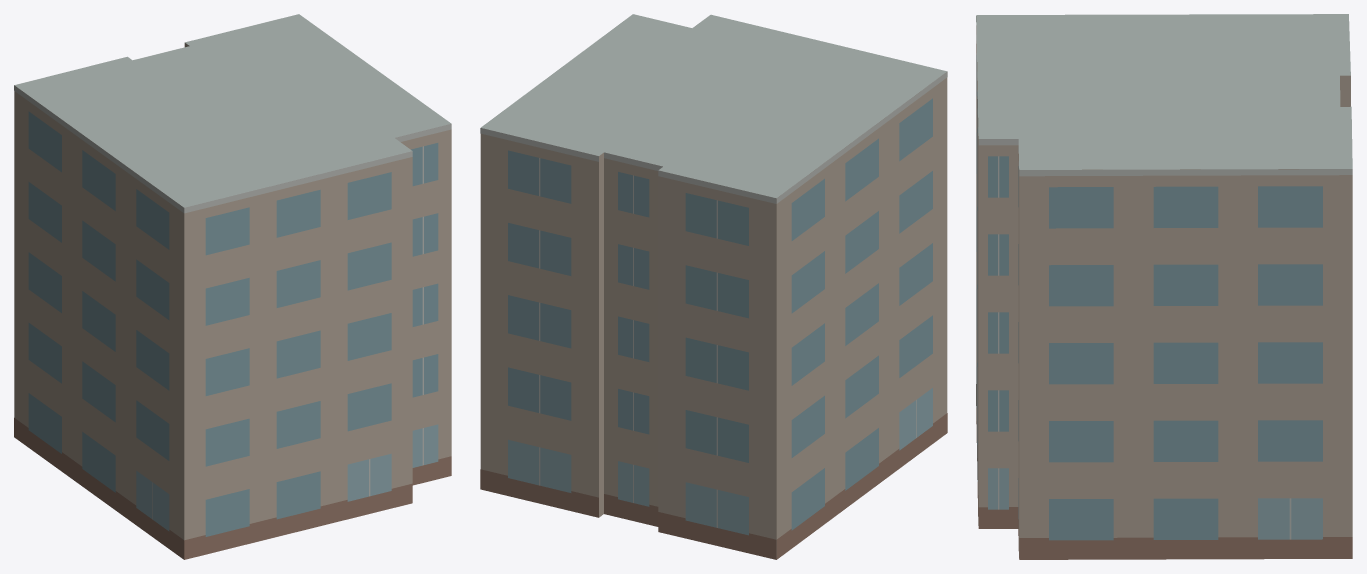
File: survey-upis-32752343.glb
The picture shows the model from 3 angles, left to right: view 1: azimuth 30°, elevation 25°; view 2: azimuth 150°, elevation 25°; view 3: azimuth 270°, elevation 25°; orthographic projection. The views are drawn at different scales.
Visible parts, largest first — view 1: survey-upis-32752343.tmp; view 2: survey-upis-32752343.tmp; view 3: survey-upis-32752343.tmp.
Part boxes in pixels (box(x1,y1,x2,y2)): survey-upis-32752343.tmp: box(14, 14, 451, 559); survey-upis-32752343.tmp: box(480, 14, 947, 559); survey-upis-32752343.tmp: box(976, 14, 1352, 559).
Size of the model in its own units: 13.1 by 15.25 by 13.35.
